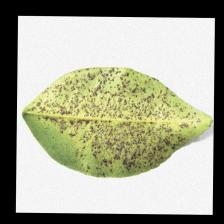canker: (80, 88, 148, 162)
